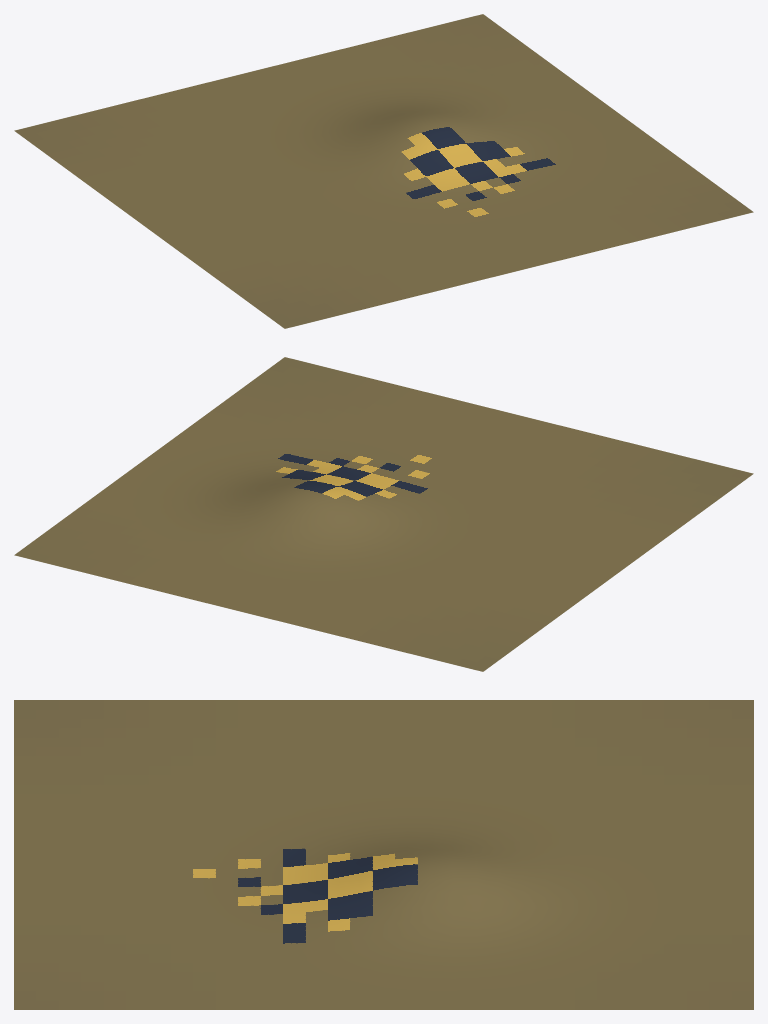
3 views of the same model, one above another, from view 1: azimuth 30°, elevation 25°; view 2: azimuth 150°, elevation 25°; view 3: azimuth 270°, elevation 25° (orthographic). The views are drawn at different scales.
Size of the model in its own units: 32 by 1.29 by 32.
1 material, 1 textured.
